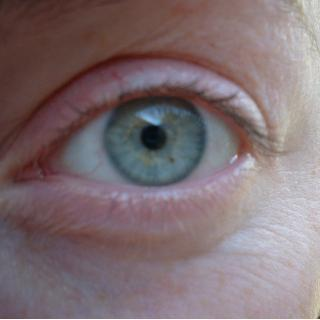pupil: (142, 126, 166, 150)
